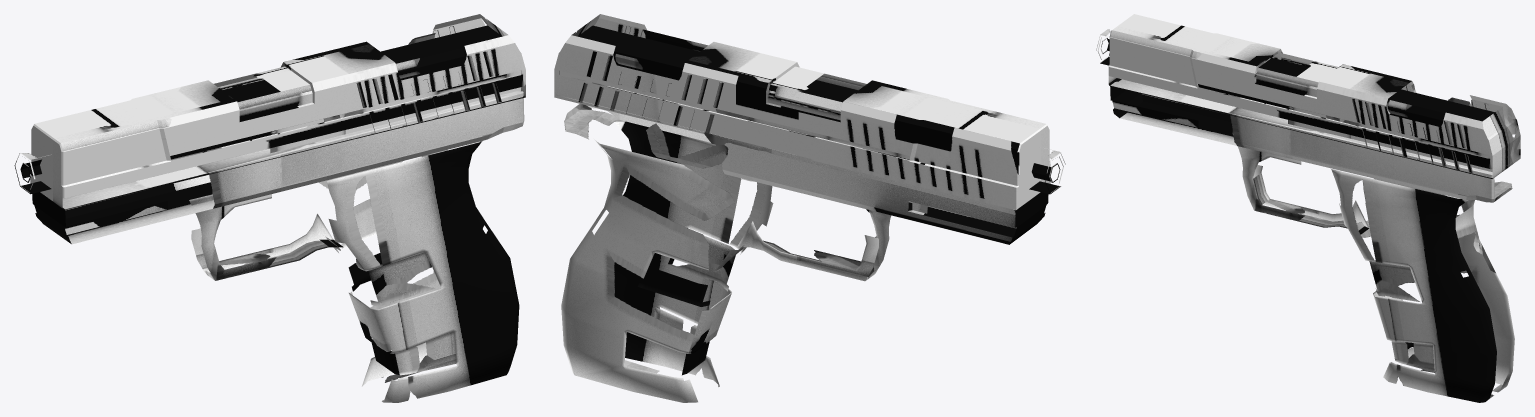
Rendered from P99 modifier.fbx.
3 views of the same model, side by side, from view 1: azimuth 30°, elevation 25°; view 2: azimuth 150°, elevation 25°; view 3: azimuth 330°, elevation 25° (orthographic). The views are drawn at different scales.
Parts seen in each view (by area): view 1: Cube.012, Cube.006; view 2: Cube.012, Cube.006; view 3: Cube.012, Cube.006.
Boxes of the visible parts, bbox=[...] form: Cube.012: bbox=[14, 91, 524, 402]; Cube.006: bbox=[30, 14, 525, 209]; Cube.012: bbox=[556, 94, 1065, 402]; Cube.006: bbox=[554, 14, 1050, 209]; Cube.012: bbox=[1096, 29, 1514, 402]; Cube.006: bbox=[1108, 14, 1520, 178].
Size of the model in its own units: 5.83 by 3.94 by 0.7214.
Materials: 2 (2 with a texture image).
